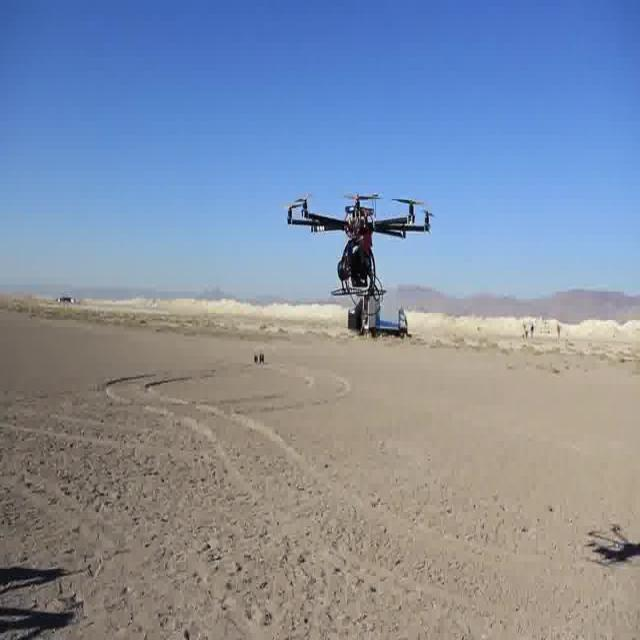drone: (279, 162, 437, 322)
